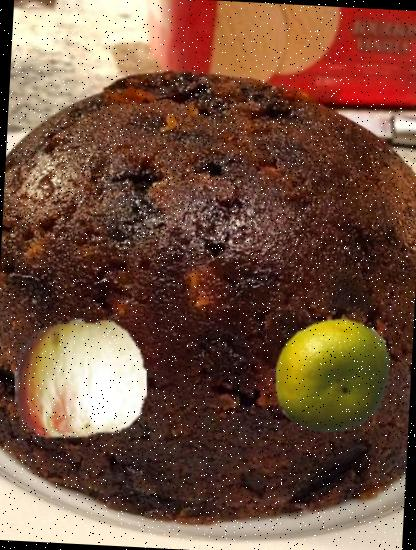Apple: (11, 308, 151, 448)
Pomelo: (269, 310, 398, 440)
